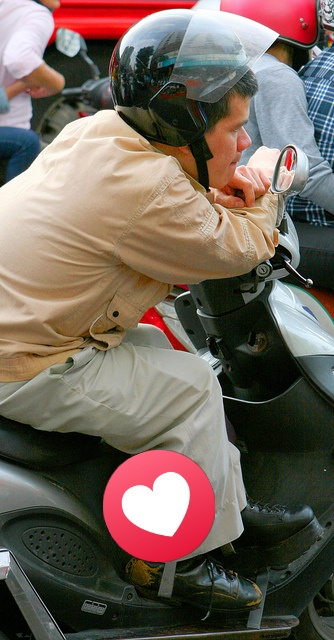love: (103, 450, 215, 562)
